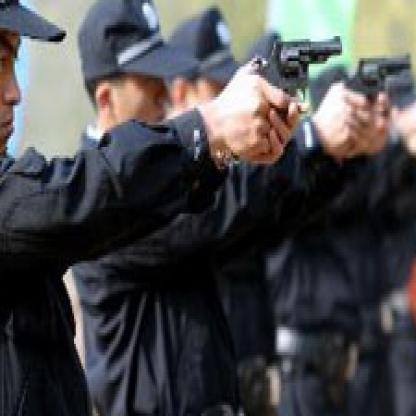gun: (253, 34, 340, 124), (341, 49, 411, 109)
